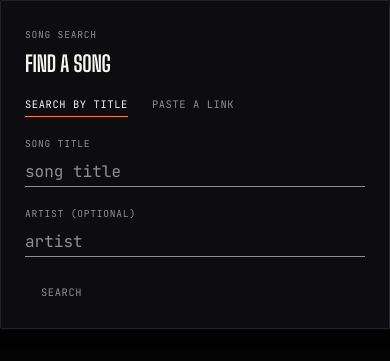
Test case: SongSearchCard › shows a calm inline error when a pasted link can't be resolved
Click the button "paste a link" at (193, 104), box x1=152 y1=91 x2=234 y2=117
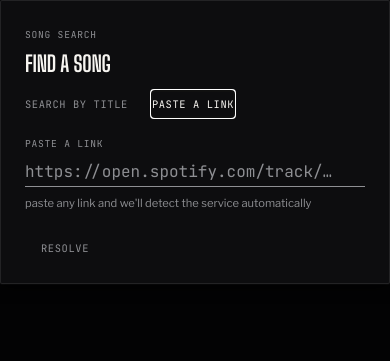
Type "https://bad/link" into the field labelled "paste a link" at (195, 172), box x1=25 y1=158 x2=365 y2=187
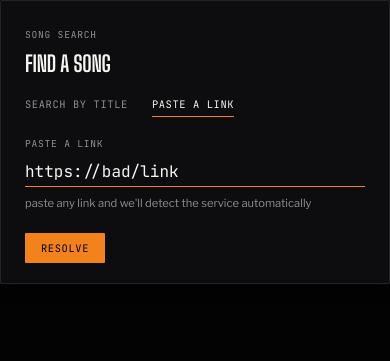
Click the button "resolve" at (65, 248), box x1=25 y1=233 x2=105 y2=264
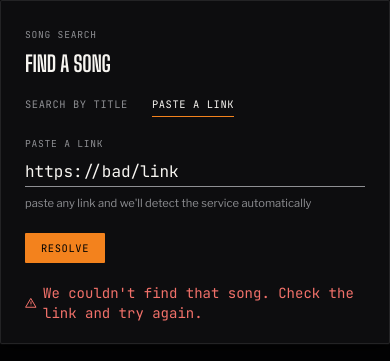
Expected: the message reads "We couldn't find that song. Check the link and try again.", x1=43 y1=284 x2=354 y2=322
